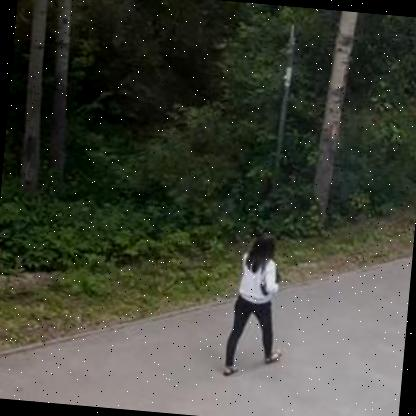door: (216, 226, 294, 390)
tree: (299, 9, 369, 243)
